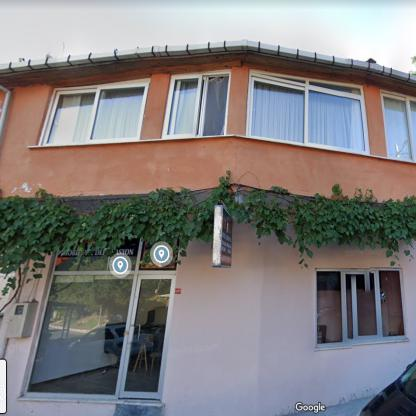door: (117, 274, 177, 401)
window: (25, 257, 132, 398), (248, 75, 367, 153), (316, 269, 403, 344), (45, 83, 146, 144), (165, 73, 228, 138), (381, 94, 416, 161)
